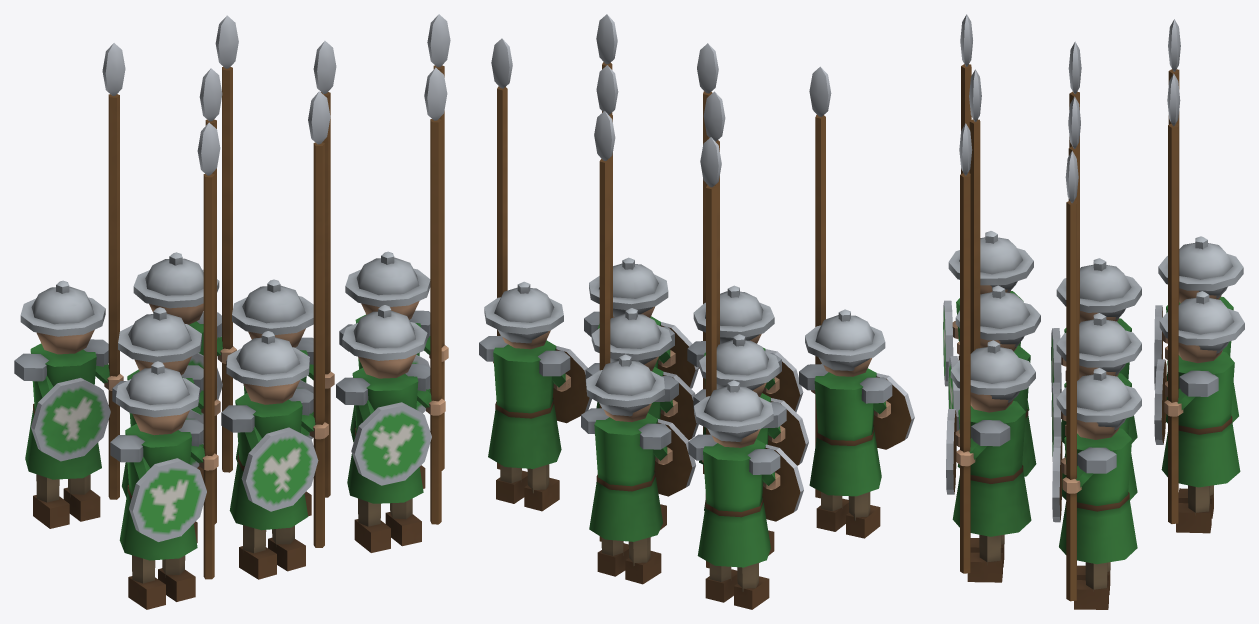
File: squad_dl2_green.glb
3 views of the same model, side by side, from view 1: azimuth 30°, elevation 25°; view 2: azimuth 150°, elevation 25°; view 3: azimuth 270°, elevation 25° (orthographic). The views are drawn at different scales.
Parts seen in each view (by area): view 1: squad_dl2_green; view 2: squad_dl2_green; view 3: squad_dl2_green.
Boxes of the visible parts, <box> form: squad_dl2_green: <box>14,14,450,609</box>; squad_dl2_green: <box>479,14,914,609</box>; squad_dl2_green: <box>943,14,1244,609</box>.
Bounding box in the file's own units: 0.6701 × 0.7916 × 0.4652.
1 material, 1 textured.
